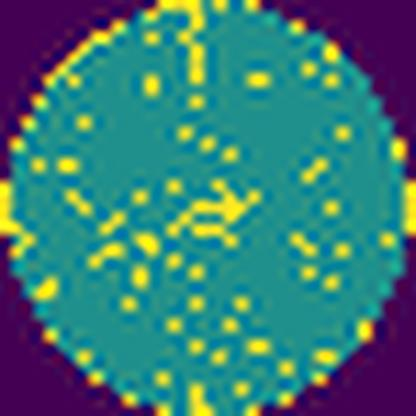Center: (164, 182, 268, 252)
